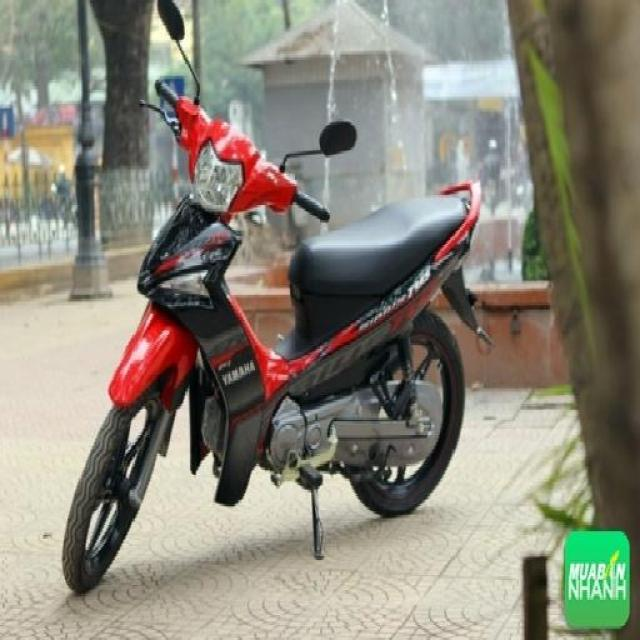All: (57, 80, 490, 602)
Head: (153, 91, 331, 229)
Tail: (409, 174, 484, 260)
